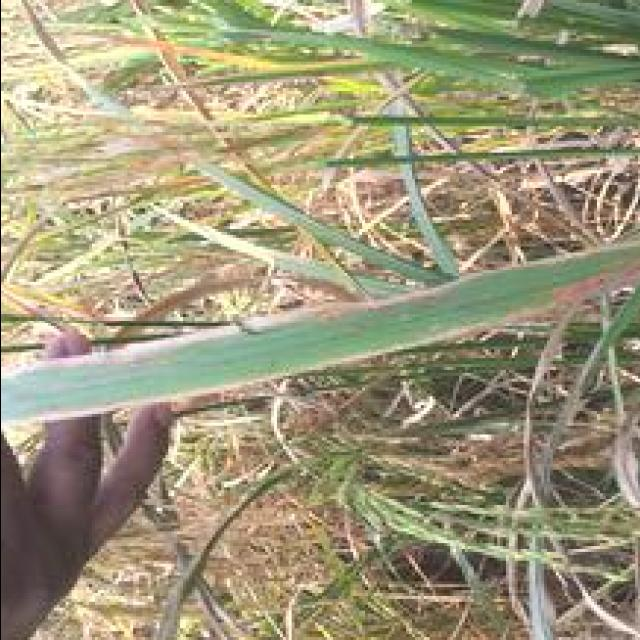Bacterial_Leaf_Blight: (0, 270, 528, 384)
